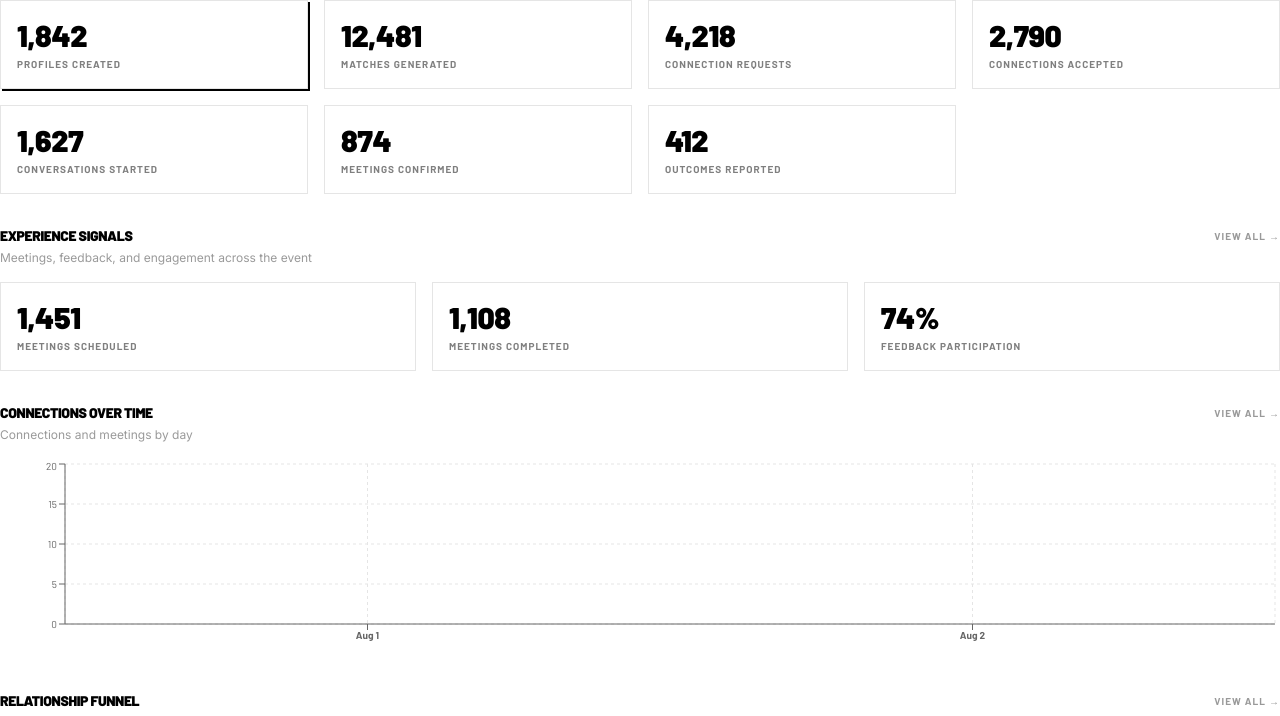
Test: OverviewTab — metric definitions › exposes a definition popover from a headline stat
Click the button "1,842 PROFILES CREATED" at x=52, y=35, box left=0, top=0, right=308, bottom=89
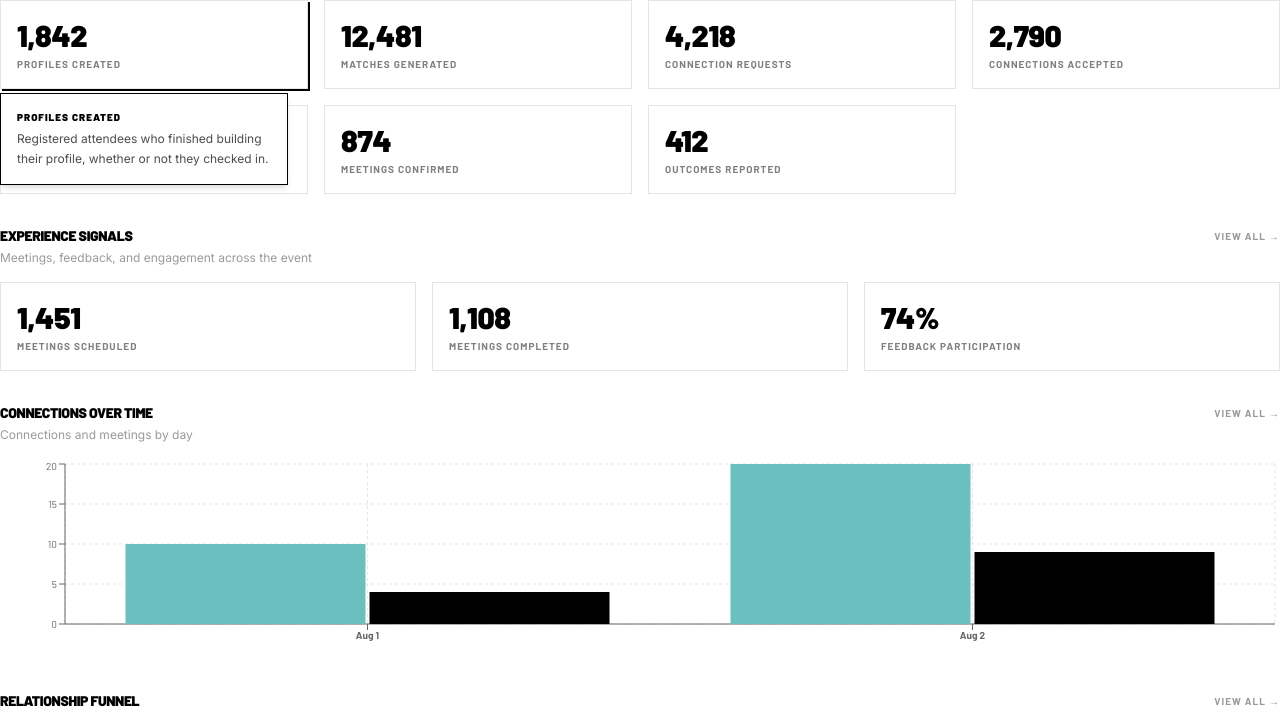
Expected: the text "finished building their profile" is shown, left=17, top=131, right=268, bottom=166
